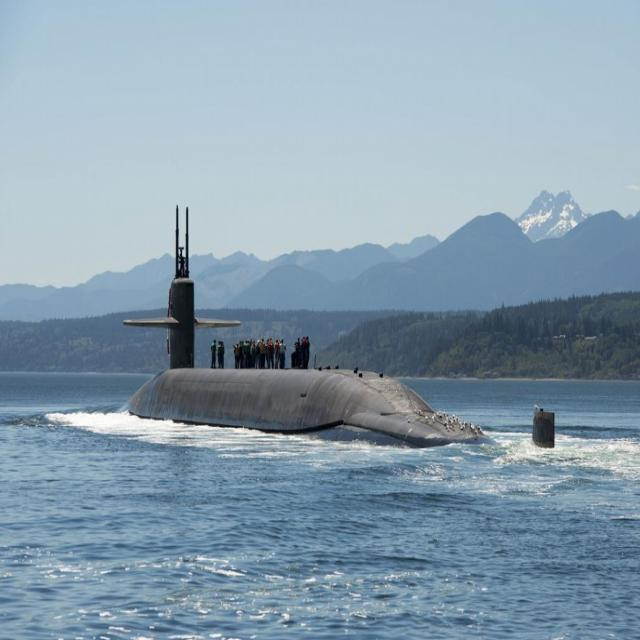submarine: (121, 199, 567, 464)
